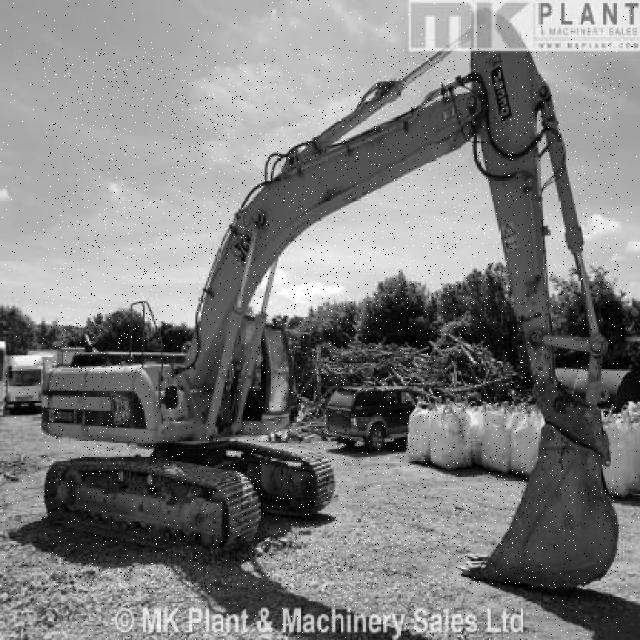Construction Equipment: (42, 48, 620, 590)
